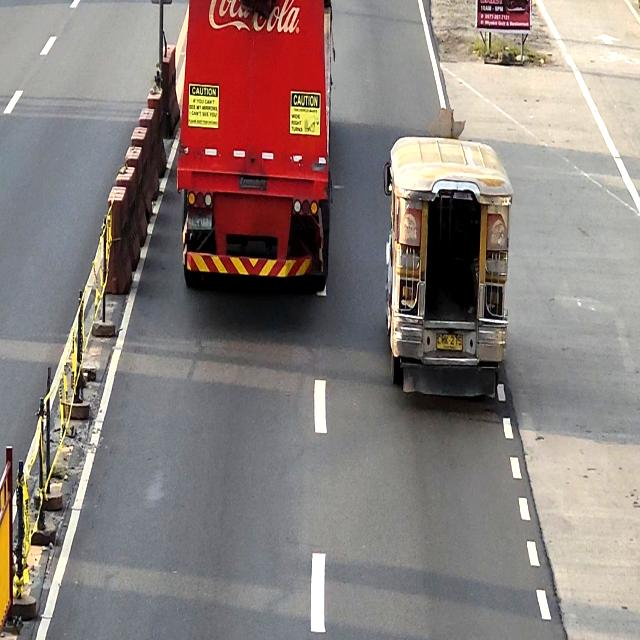Jeep: (384, 135, 514, 398)
License-Plate: (436, 333, 463, 352), (188, 212, 212, 230)
Truck: (176, 0, 334, 298)
